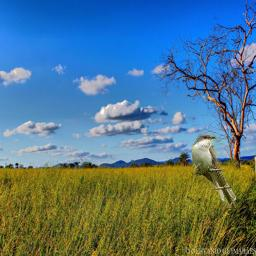Cuckoo: (192, 133, 236, 208)
